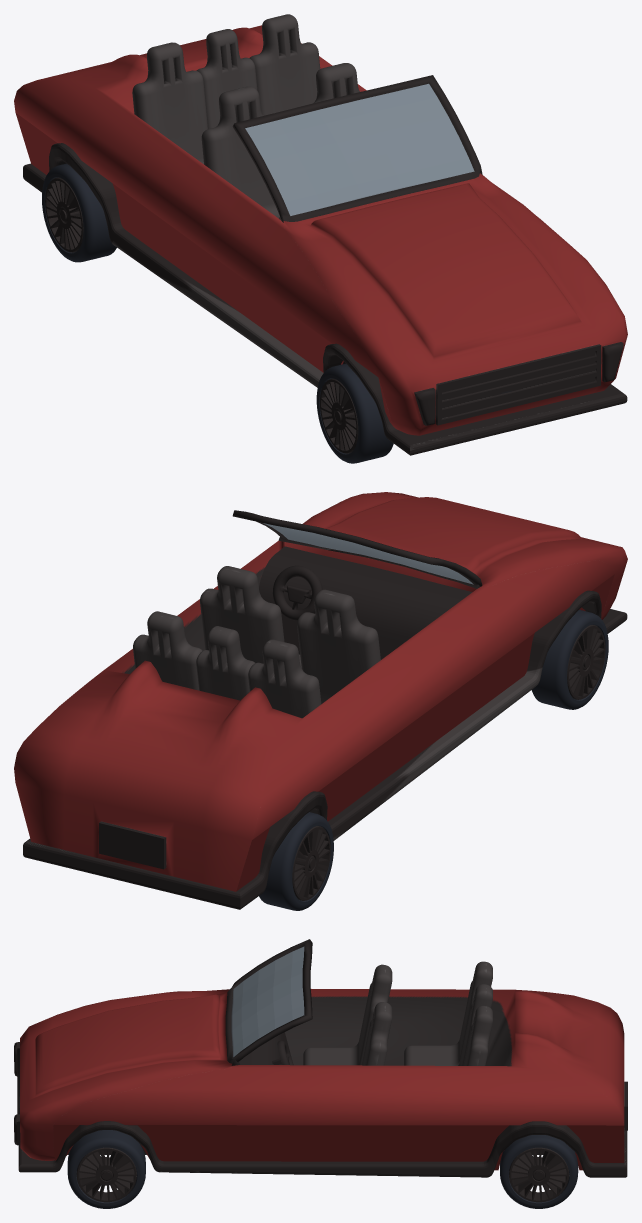
Rendered from Convertible.gltf.
The picture shows the model from 3 angles, top to bottom: view 1: azimuth 30°, elevation 25°; view 2: azimuth 150°, elevation 25°; view 3: azimuth 270°, elevation 25°; orthographic projection. The views are drawn at different scales.
Parts seen in each view (by area): view 1: Cube.009; view 2: Cube.009; view 3: Cube.009.
Boxes of the visible parts, x1,y1,x2,y2 form: Cube.009: (14,14,627,463); Cube.009: (14,492,627,910); Cube.009: (14,939,627,1208).
Bounding box in the file's own units: 3.95 × 3.61 × 10.65.
1 material, 1 textured.
